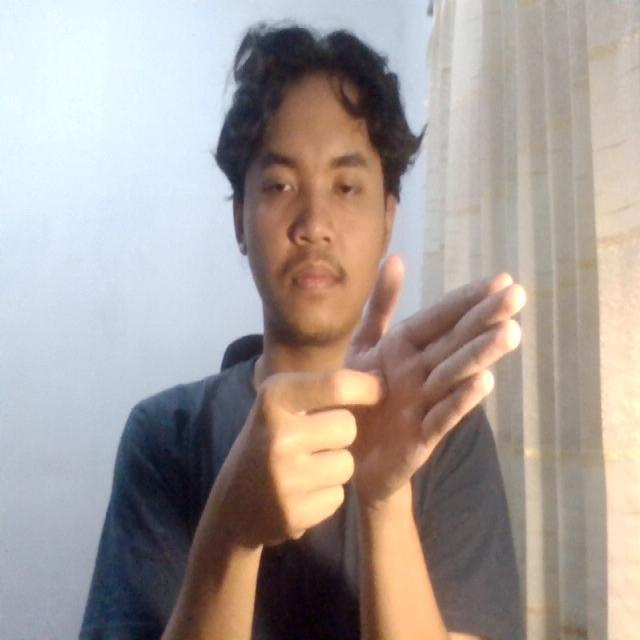L: (227, 239, 544, 541)
